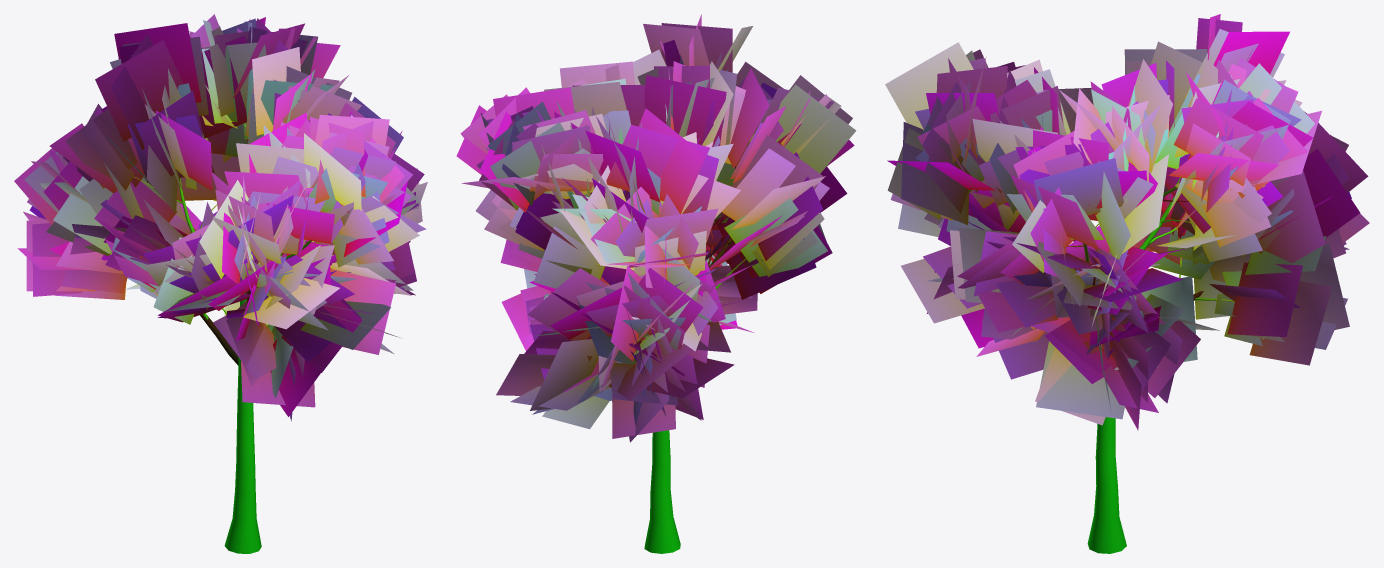
File: TreePlane.fbx
3 renders of one model, left to right at view 1: azimuth 30°, elevation 25°; view 2: azimuth 150°, elevation 25°; view 3: azimuth 270°, elevation 25°, orthographic. The views are drawn at different scales.
Parts seen in each view (by area): view 1: TreePlane_LOD0; view 2: TreePlane_LOD0; view 3: TreePlane_LOD0.
Part boxes in pixels (bbox=[...]): TreePlane_LOD0: bbox=[14, 14, 427, 553]; TreePlane_LOD0: bbox=[456, 14, 856, 553]; TreePlane_LOD0: bbox=[885, 14, 1369, 553].
Size of what is drawn, in the model's own units: 6.05 by 9.25 by 7.91.
